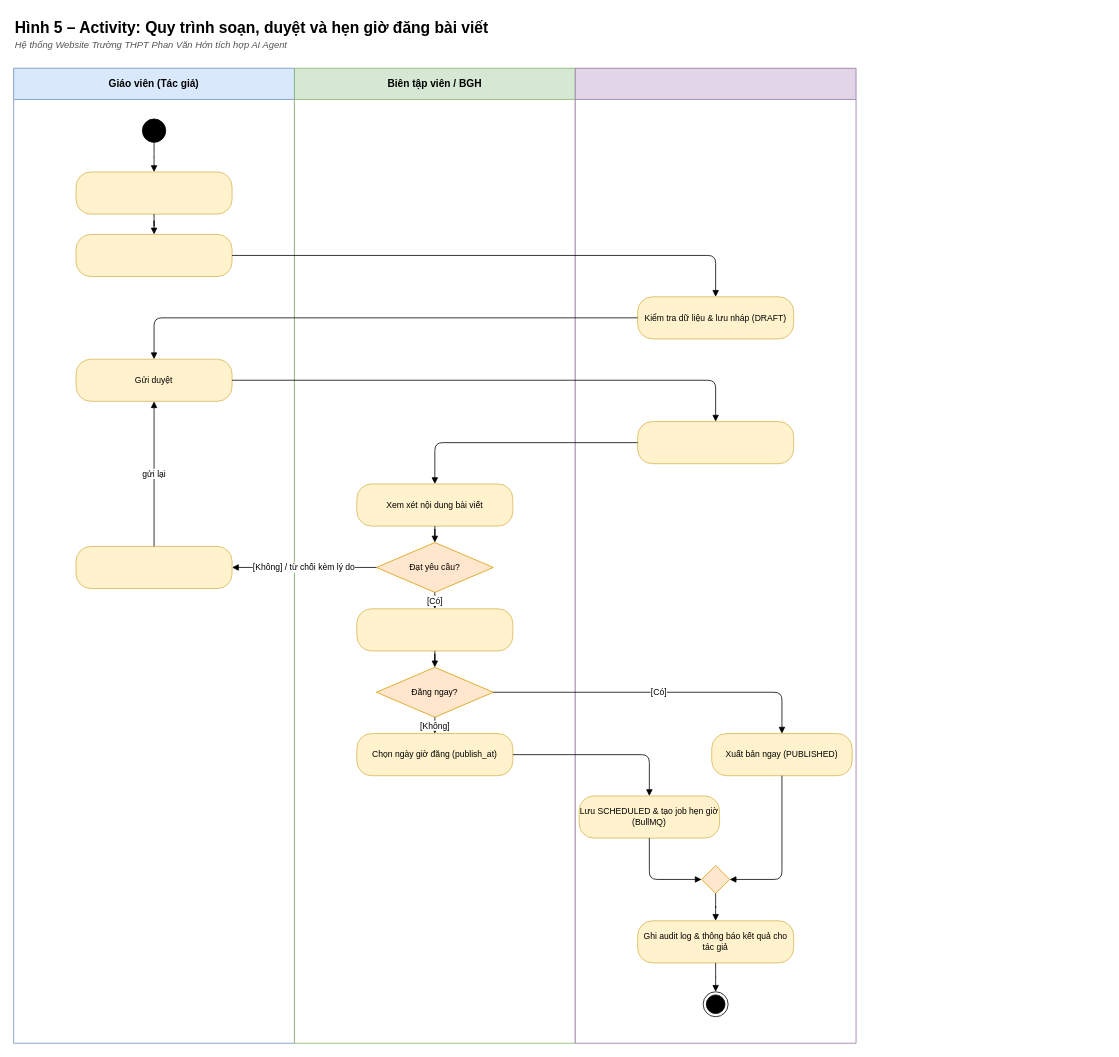
This 1119x1057 diagram has some shape labels left out. Each missing label, with the box of its shape:
Chuyển PENDING_REVIEW, thông báo người duyệt (Web + Telegram): (637, 421, 794, 464)
Hệ thống: (574, 67, 856, 1043)
Nhận góp ý (REJECTED) & chỉnh sửa bài: (75, 546, 232, 589)
Nhập tiêu đề, nội dung, ảnh, chuyên mục: (75, 234, 232, 277)
Phê duyệt bài viết: (356, 608, 513, 651)
Tạo bài viết mới: (75, 171, 232, 214)
